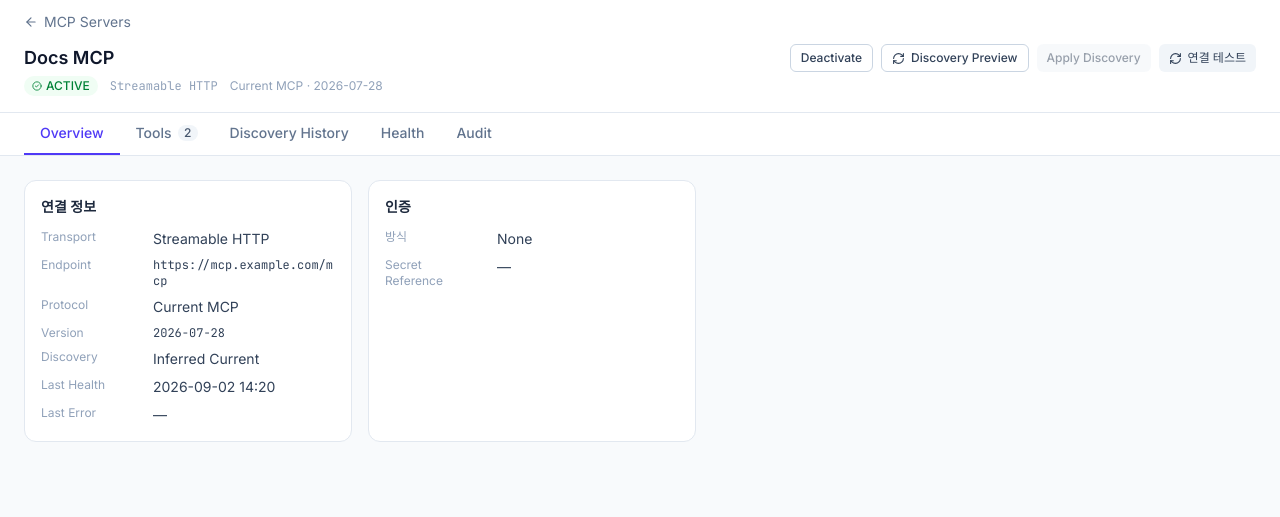
MCPServerDetail — API detail › runs connection test, shows result, and refetches server metadata
The image size is (1280, 517).
Check: the heading "Docs MCP" is shown, box x1=24 y1=47 x2=114 y2=68
Click the button "연결 테스트".
click(1207, 58)  # box x1=1159 y1=44 x2=1256 y2=72
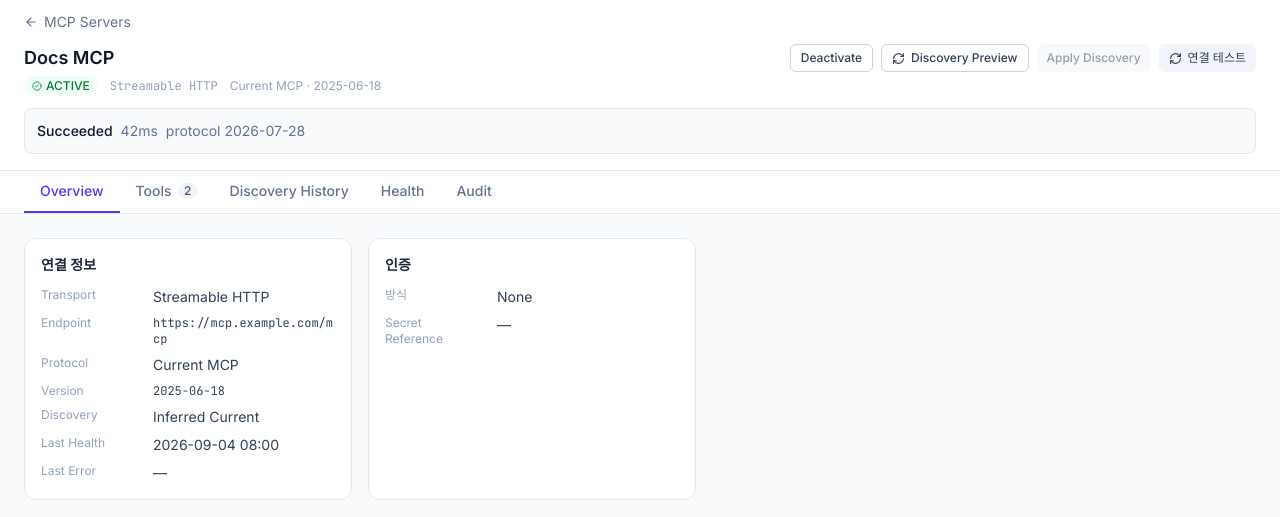
Check: the text "Succeeded" is shown, box x1=37 y1=122 x2=113 y2=139
Check: the text "42ms" is shown, box x1=121 y1=122 x2=158 y2=139
Check: the text "2025-06-18" is shown, box x1=153 y1=383 x2=225 y2=399
